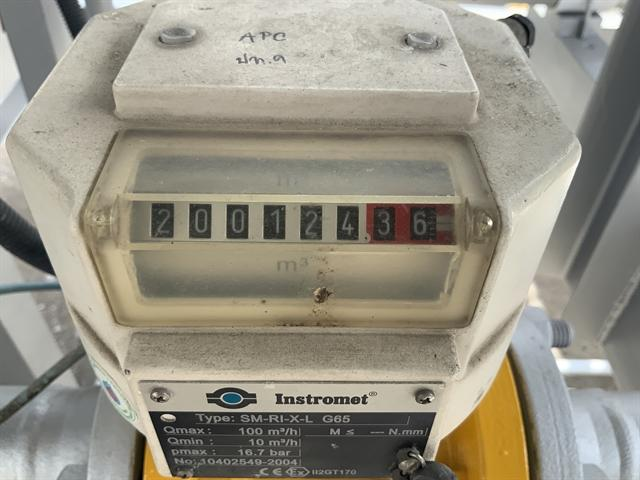analog_dial: (131, 201, 457, 245)
